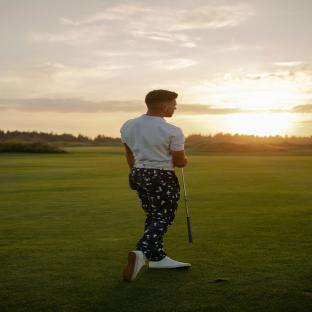Human: (121, 89, 191, 281)
